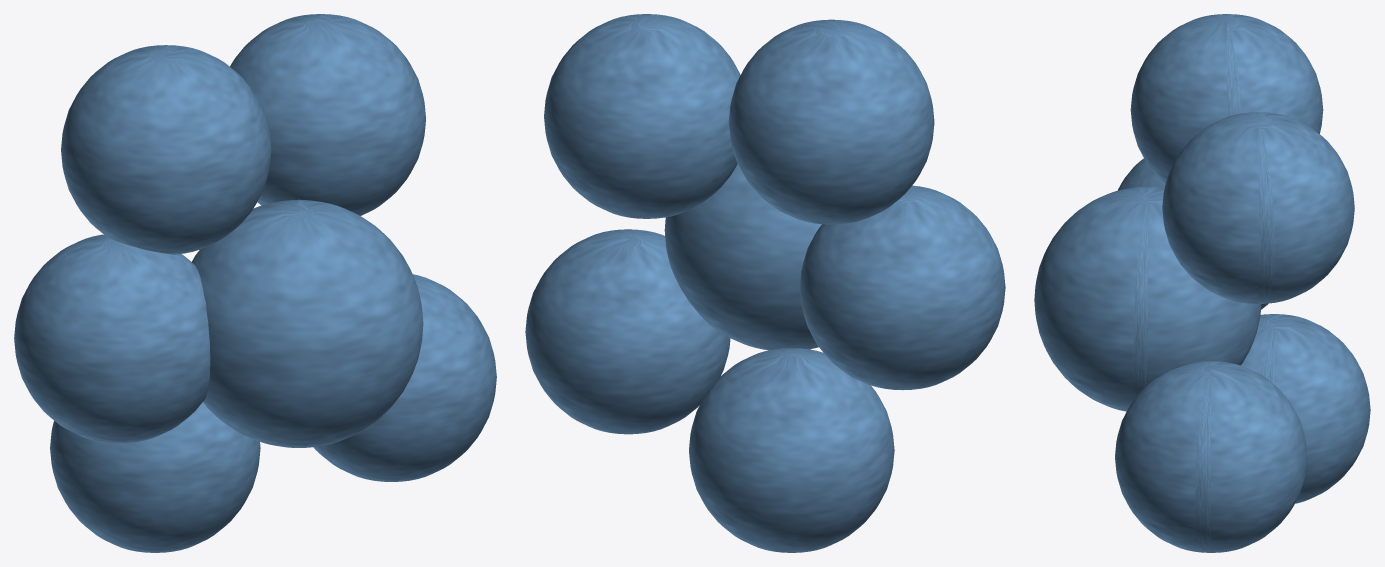
The model's file is complete.glb.
3 renders of one model, left to right at view 1: azimuth 30°, elevation 25°; view 2: azimuth 150°, elevation 25°; view 3: azimuth 270°, elevation 25°, orthographic. The views are drawn at different scales.
Parts seen in each view (by area): view 1: parede_mesh; view 2: parede_mesh; view 3: parede_mesh.
Boxes of the visible parts, x1,y1,x2,y2 form: parede_mesh: (14, 14, 496, 552); parede_mesh: (525, 14, 1005, 552); parede_mesh: (1034, 14, 1370, 552).
Bounding box in the file's own units: 3.07 × 3.27 × 2.13.
5 materials, 5 textured.
